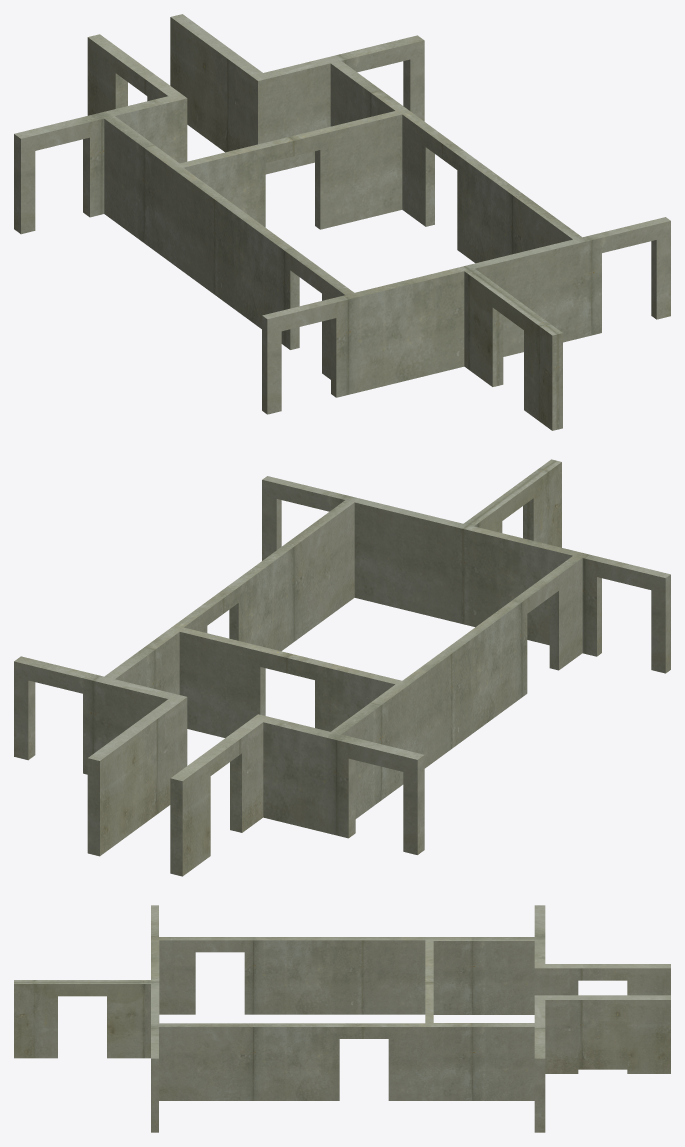
File: SM_LDFest_28_00.001.fbx
3 renders of one model, top to bottom at view 1: azimuth 30°, elevation 25°; view 2: azimuth 150°, elevation 25°; view 3: azimuth 270°, elevation 25°, orthographic. The views are drawn at different scales.
Parts seen in each view (by area): view 1: SM_LDFest_28_00.001; view 2: SM_LDFest_28_00.001; view 3: SM_LDFest_28_00.001.
Boxes of the visible parts, x1,y1,x2,y2 form: SM_LDFest_28_00.001: (14, 14, 670, 430); SM_LDFest_28_00.001: (14, 459, 670, 876); SM_LDFest_28_00.001: (14, 905, 670, 1132).
Size of the model in its own units: 1850 by 418 by 3351.
